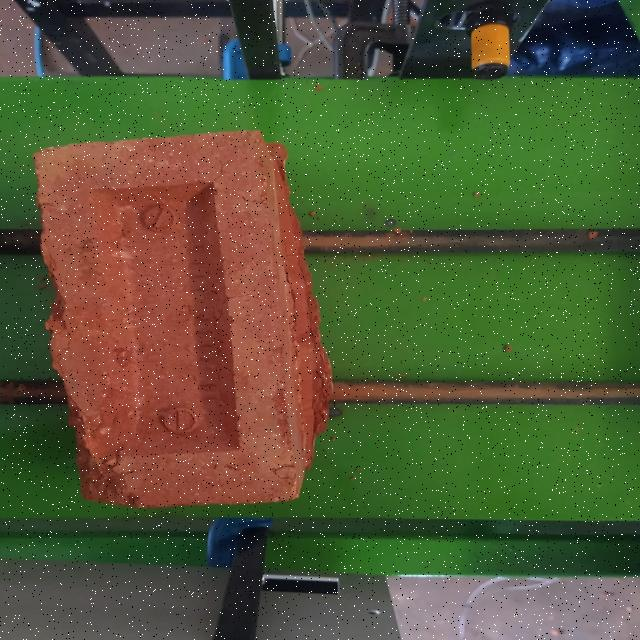bricks_ruin: (35, 130, 335, 506)
